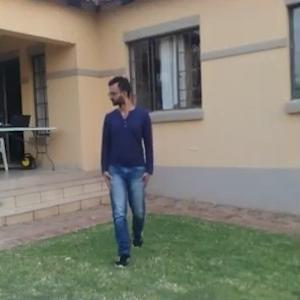follow: (96, 70, 153, 268)
